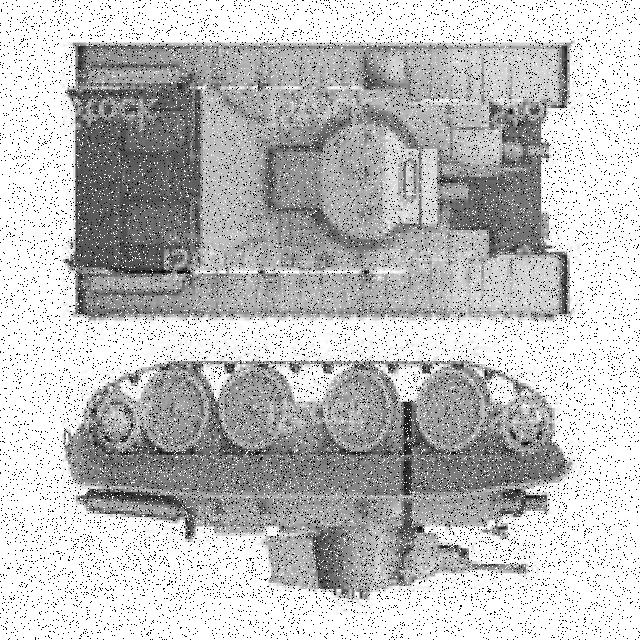MIL_MBT: (69, 30, 571, 337), (65, 359, 568, 598)
